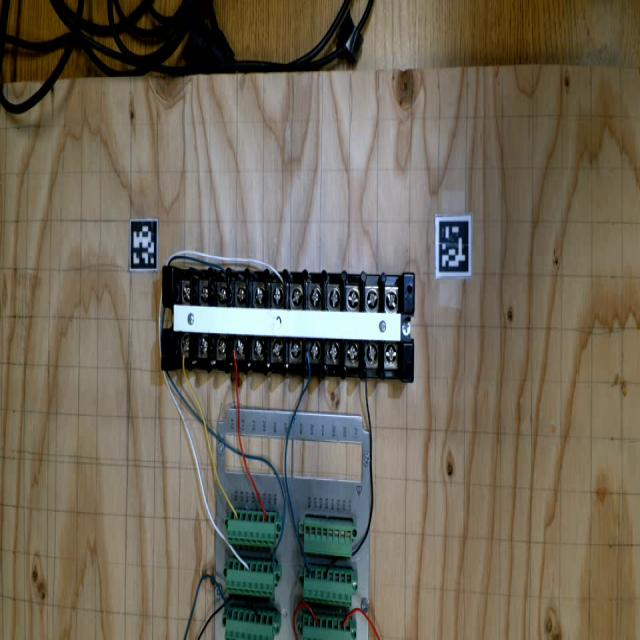Phillips_Block: (158, 260, 419, 383)
Terminal_2: (300, 565, 355, 607), (225, 557, 276, 598), (226, 508, 278, 548), (225, 607, 274, 640), (302, 614, 351, 639)
